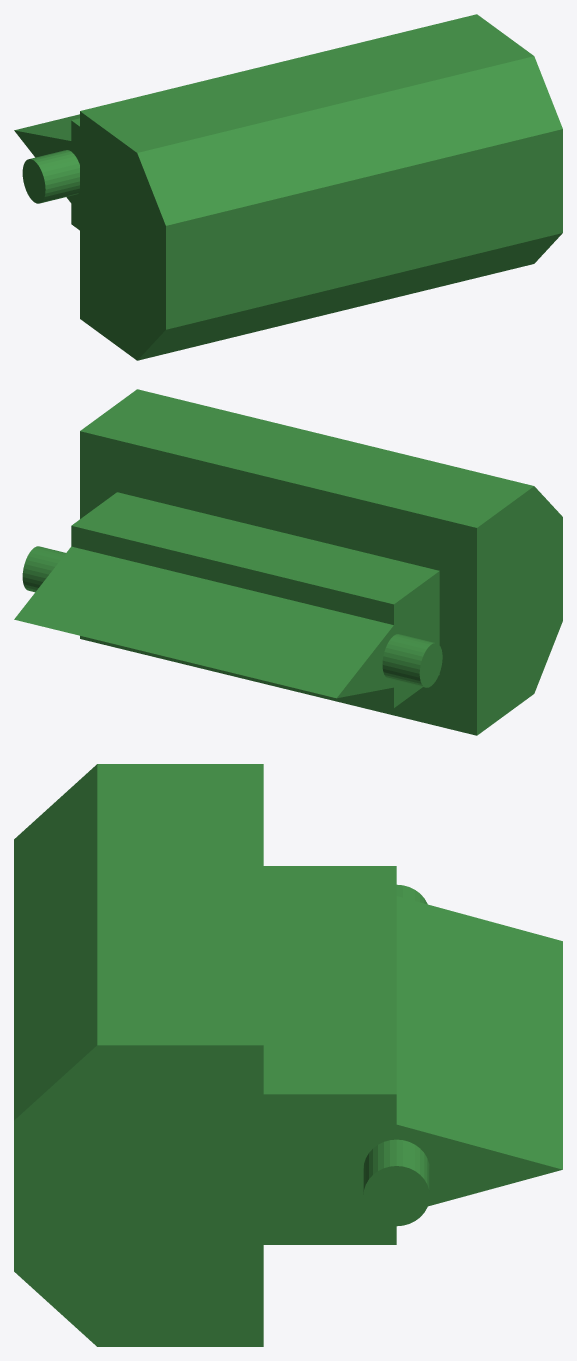
Rendered from tn__Alavanca1_zH_Corpo1_Mesh.obj.
3 renders of one model, top to bottom at view 1: azimuth 30°, elevation 25°; view 2: azimuth 150°, elevation 25°; view 3: azimuth 270°, elevation 25°, orthographic. The views are drawn at different scales.
Bounding box in the file's own units: 0.04 × 0.02 × 0.033.
